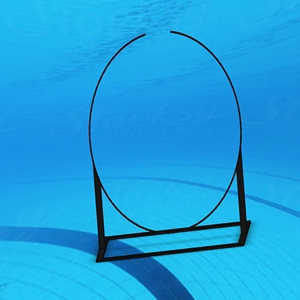circle: (84, 29, 252, 266)
